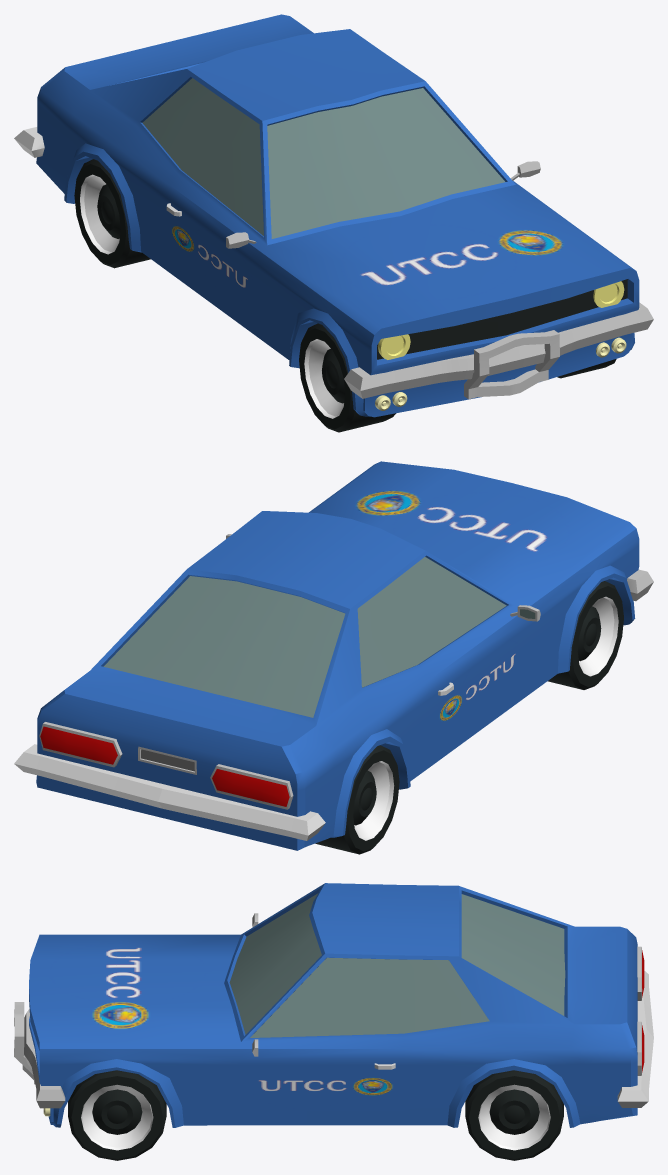
Rendered from Utcc.glb.
3 views of the same model, one above another, from view 1: azimuth 30°, elevation 25°; view 2: azimuth 150°, elevation 25°; view 3: azimuth 270°, elevation 25° (orthographic). The views are drawn at different scales.
Parts seen in each view (by area): view 1: Cube; view 2: Cube; view 3: Cube.
Part boxes in pixels (x1,y1,x2,y2): Cube: [14, 14, 653, 432]; Cube: [14, 461, 653, 854]; Cube: [14, 883, 653, 1160].
Size of the model in its own units: 1.97 by 1.3 by 3.96.
1 material, 1 textured.
